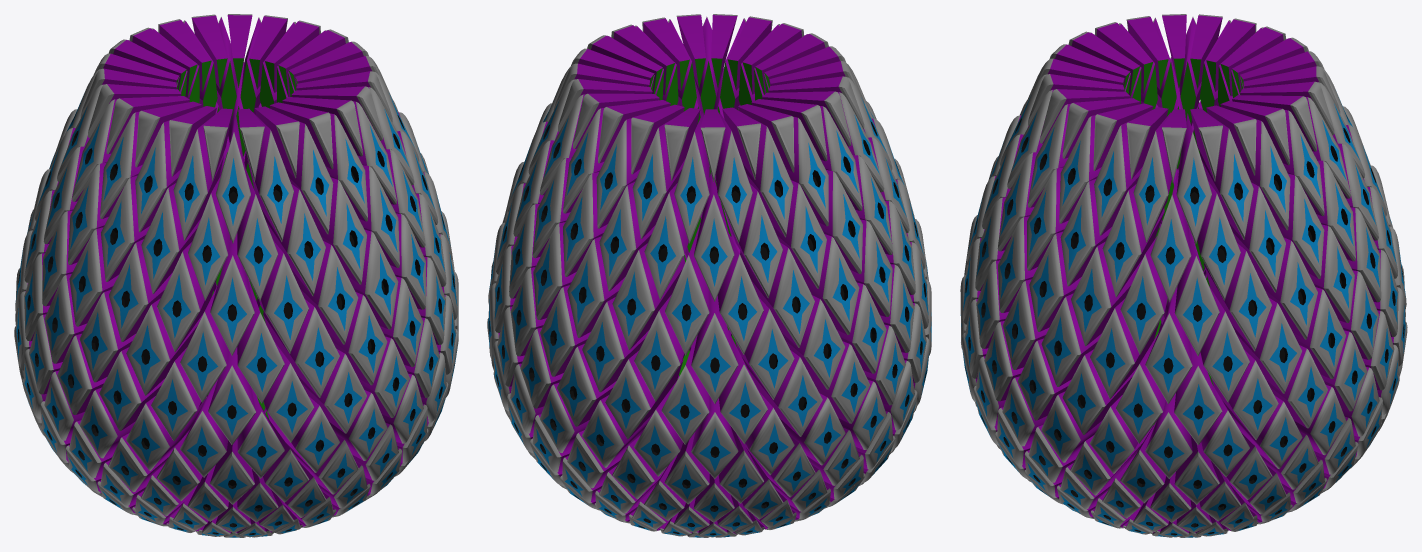
The model's file is Vase_02.fbx.
3 renders of one model, left to right at view 1: azimuth 30°, elevation 25°; view 2: azimuth 150°, elevation 25°; view 3: azimuth 270°, elevation 25°, orthographic.
Visible parts, largest first — view 1: Plane010; view 2: Plane010; view 3: Plane010.
Part boxes in pixels (x1,y1,x2,y2): Plane010: (14, 14, 458, 537); Plane010: (487, 14, 931, 537); Plane010: (960, 14, 1407, 537).
Size of the model in its own units: 624 by 625 by 668.
